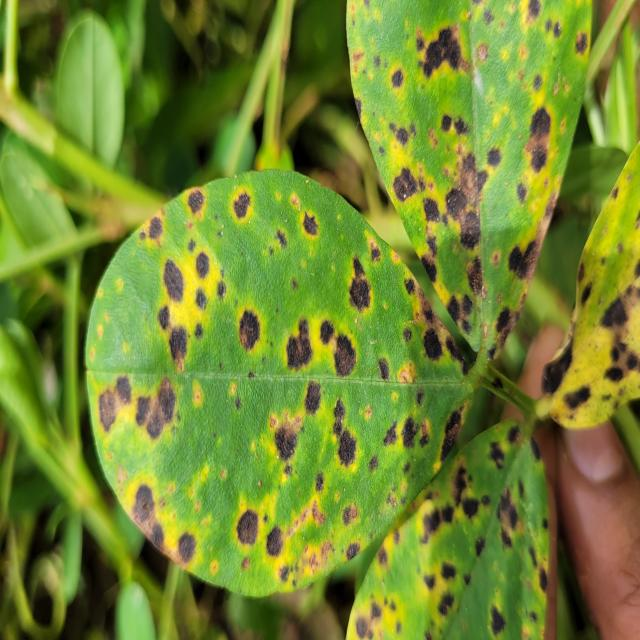Ground nut_tikka leaf spot: (87, 168, 480, 593)
